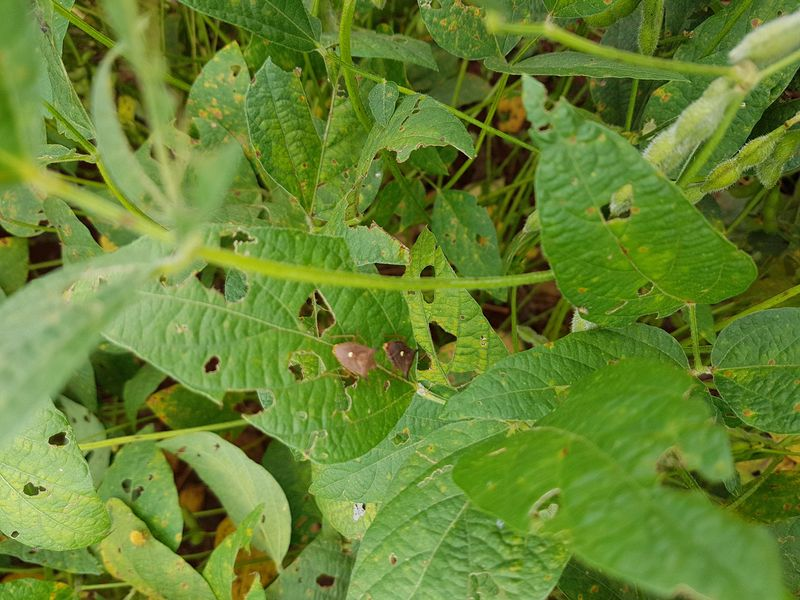Euschistus_heros_adulto: (316, 327, 381, 390), (381, 336, 428, 386)
